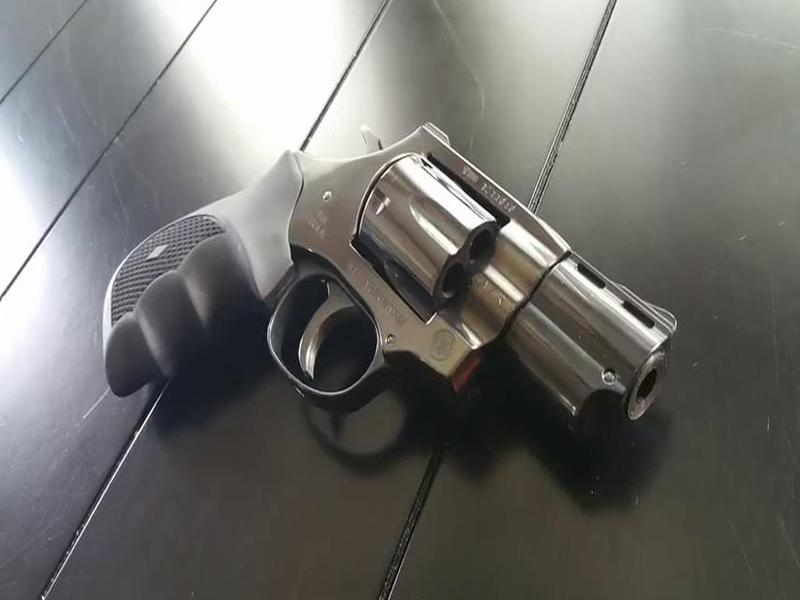Revolver: (99, 98, 669, 484)
